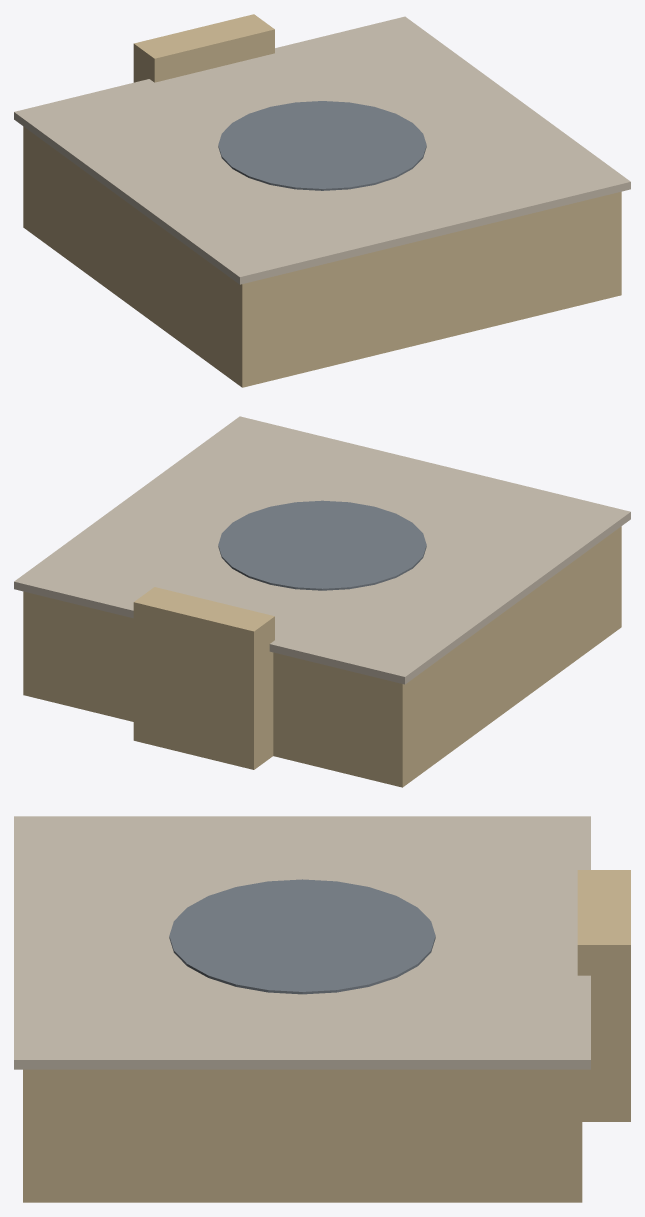
The model's file is carlosv.glb.
3 renders of one model, top to bottom at view 1: azimuth 30°, elevation 25°; view 2: azimuth 150°, elevation 25°; view 3: azimuth 270°, elevation 25°, orthographic. The views are drawn at different scales.
Bounding box in the file's own units: 65 × 22 × 69.5.
